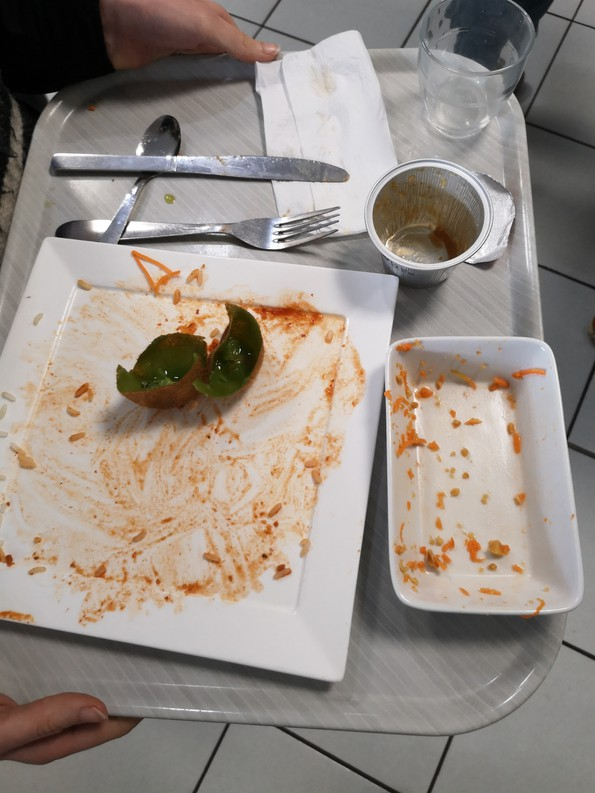cup: (420, 1, 541, 141)
cutlery: (49, 204, 353, 265), (97, 114, 195, 267), (49, 145, 358, 193)
orga: (120, 307, 264, 413)
trash: (248, 49, 399, 245), (366, 154, 511, 287)
